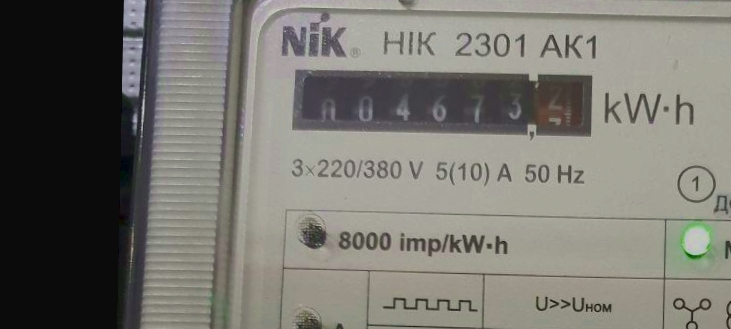0: (317, 93, 338, 123), (355, 91, 374, 123)
2: (545, 80, 565, 112)
3: (505, 88, 523, 122)
4: (393, 88, 412, 124)
6: (427, 89, 449, 123)
7: (465, 90, 488, 127)
screen: (287, 63, 598, 146)
